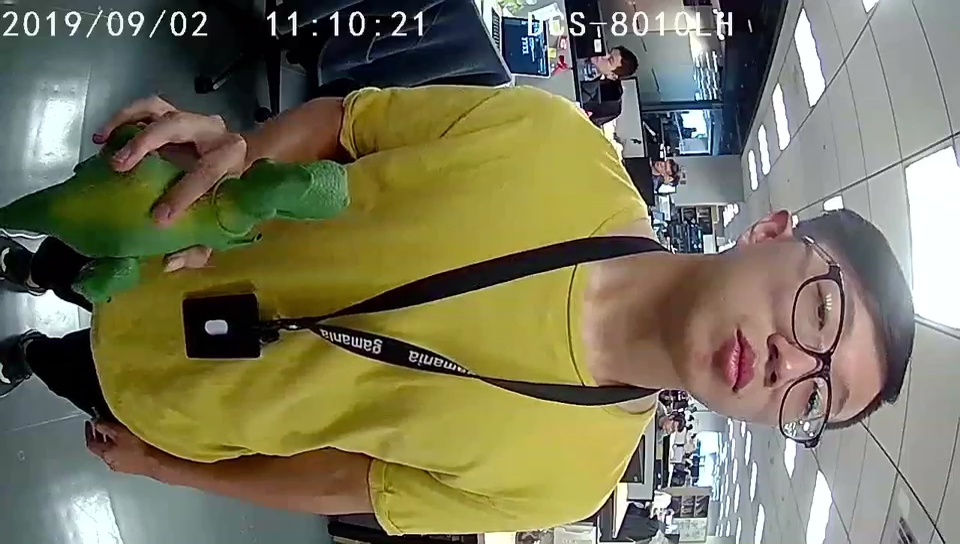rex: (72, 153, 351, 303)
